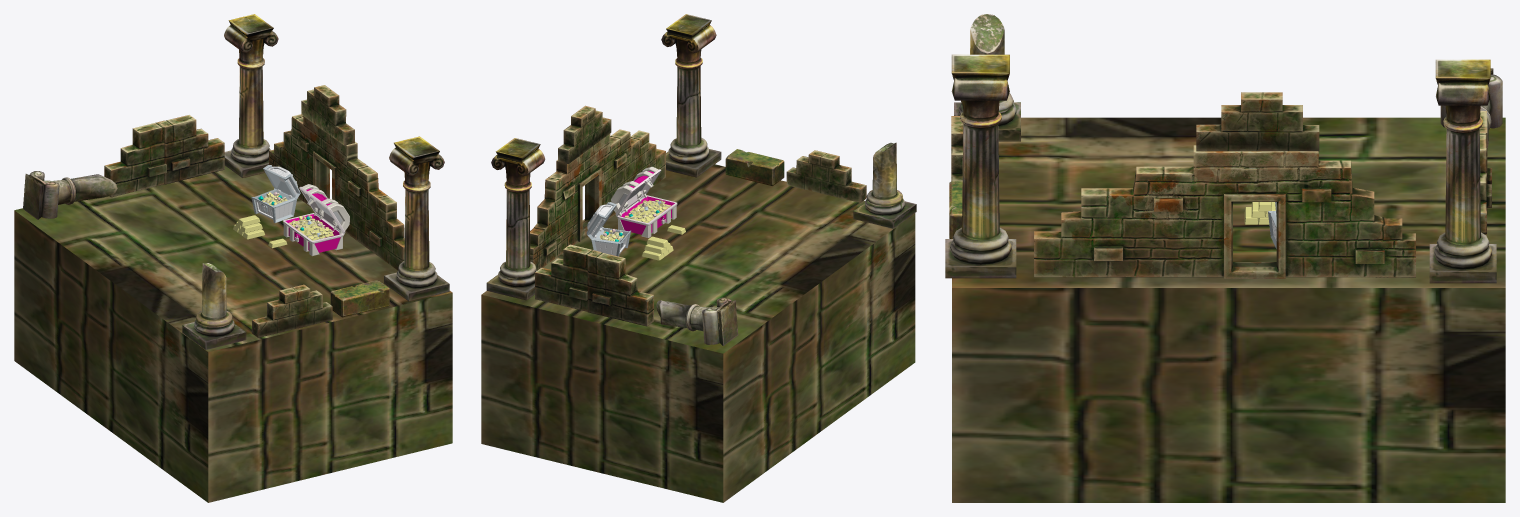
Rendered from TitleRuin2.fbx.
3 renders of one model, left to right at view 1: azimuth 30°, elevation 25°; view 2: azimuth 150°, elevation 25°; view 3: azimuth 270°, elevation 25°, orthographic. The views are drawn at different scales.
Visible parts, largest first — view 1: Cube__73_, wall_1, column_4, column___1_1, wall_5, wall_3__1_1, column_3, column_2, wall_4, wall_2__1_1, stone_cube_2, Treasure_Chest_2c (+5 smaller); view 2: Cube__73_, wall_1, column_4, column___1_1, wall_3__1_1, column_3, wall_5, wall_4, column_2, wall_2__1_1, stone_cube_2, Treasure_Chest_2c (+5 smaller); view 3: Cube__73_, wall_1, column_4, column___1_1, wall_2__1_1, column_3, column_2, wall_5, wall_4, stone_cube_2.
Boxes of the visible parts, left/top/right/bottom form: Cube__73_: left=14, top=165, right=452, bottom=502; wall_1: left=269, top=114, right=404, bottom=270; column_4: left=384, top=136, right=449, bottom=301; column___1_1: left=224, top=14, right=278, bottom=177; wall_5: left=158, top=115, right=224, bottom=184; wall_3__1_1: left=104, top=120, right=168, bottom=197; column_3: left=182, top=263, right=246, bottom=349; column_2: left=23, top=171, right=117, bottom=219; wall_4: left=252, top=284, right=332, bottom=337; wall_2__1_1: left=301, top=85, right=354, bottom=145; stone_cube_2: left=330, top=280, right=389, bottom=317; Treasure_Chest_2c: left=283, top=211, right=344, bottom=256; Cube__73_: left=481, top=164, right=915, bottom=502; wall_1: left=530, top=129, right=665, bottom=270; column_4: left=661, top=14, right=721, bottom=177; column___1_1: left=486, top=138, right=545, bottom=300; wall_3__1_1: left=587, top=252, right=653, bottom=326; column_3: left=853, top=142, right=916, bottom=228; wall_5: left=535, top=244, right=600, bottom=311; wall_4: left=786, top=150, right=866, bottom=202; column_2: left=656, top=297, right=738, bottom=345; wall_2__1_1: left=558, top=105, right=611, bottom=163; stone_cube_2: left=725, top=149, right=784, bottom=185; Treasure_Chest_2c: left=616, top=194, right=677, bottom=237; Cube__73_: left=952, top=117, right=1505, bottom=502; wall_1: left=1034, top=145, right=1415, bottom=278; column_4: left=945, top=54, right=1016, bottom=278; column___1_1: left=1429, top=59, right=1496, bottom=283; wall_2__1_1: left=1196, top=92, right=1319, bottom=151; column_3: left=954, top=14, right=1020, bottom=141; column_2: left=1440, top=68, right=1502, bottom=148; wall_5: left=1479, top=128, right=1491, bottom=236; wall_4: left=951, top=116, right=963, bottom=181; stone_cube_2: left=949, top=181, right=962, bottom=238.
Bounding box in the file's own units: 41.89 × 47.98 × 57.86.
